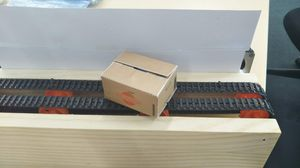box1: (98, 49, 179, 119)
